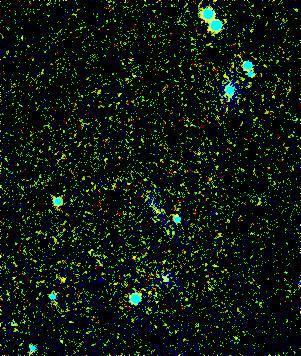star: (52, 268, 82, 298)
